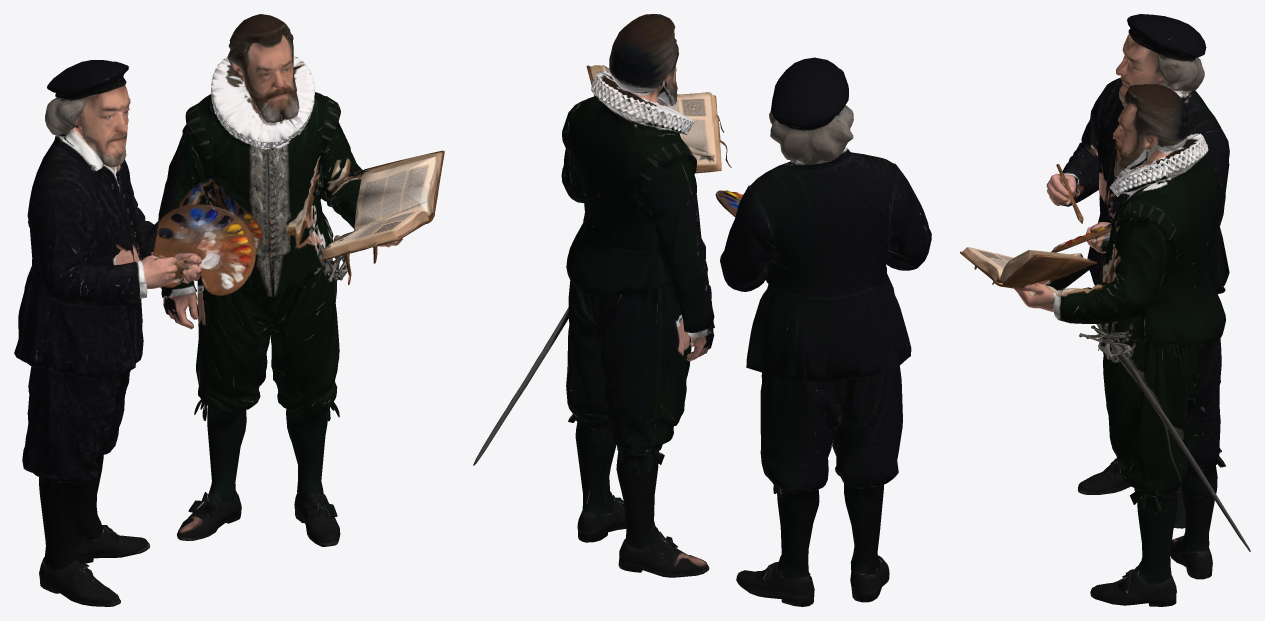
File: vermeer-pieter-van-ruijven-rig.glb
3 views of the same model, side by side, from view 1: azimuth 30°, elevation 25°; view 2: azimuth 150°, elevation 25°; view 3: azimuth 270°, elevation 25° (orthographic). The views are drawn at different scales.
Parts seen in each view (by area): view 1: Mesh1.0; view 2: Mesh1.0; view 3: Mesh1.0.
Part boxes in pixels (bbox=[...]): Mesh1.0: bbox=[14, 14, 444, 606]; Mesh1.0: bbox=[473, 14, 931, 606]; Mesh1.0: bbox=[960, 14, 1250, 606].
Size of the model in its own units: 1.42 by 1.9 by 1.02.
1 material, 1 textured.
